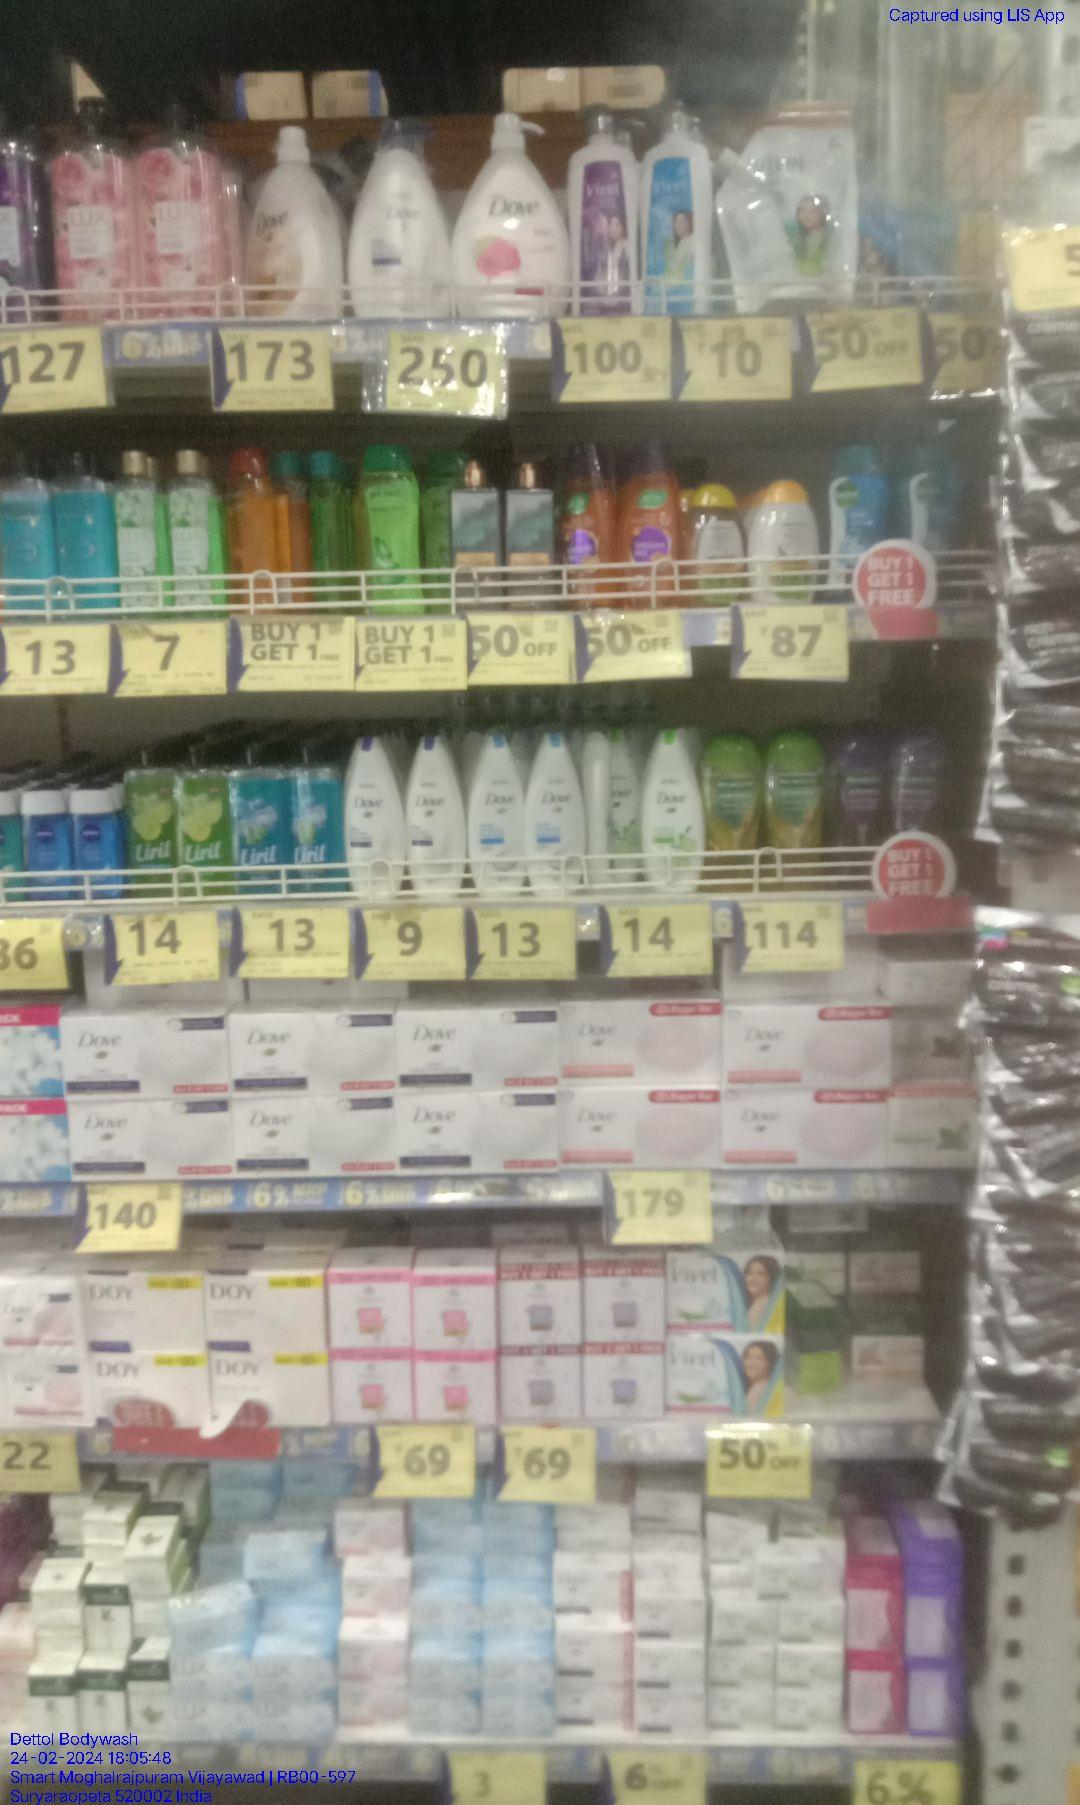Dettol_Bodywash_Cool: (904, 422, 968, 555), (824, 438, 887, 554)
Dove_Deep_Moisture_Body_Wash_250ML: (350, 729, 405, 904), (409, 729, 464, 900)
Dove_Gentle_Exfoliating_Body_Wash_250ML: (467, 729, 527, 895), (531, 733, 588, 894)
Dove_Refreshing_Body_Wash_250ML: (638, 721, 708, 892)
Joy_Shower_Gel_Mandarin_and_Lemongrass_250ML: (621, 431, 683, 613), (564, 444, 613, 609)
Liril_Cooling_Mint_Body_Wash_250ML: (292, 742, 345, 904), (235, 742, 288, 900)
Liril_Lime_and_Tea_Tree_Oil_Body_Wash_250ML: (125, 753, 177, 900), (185, 750, 233, 899)
Lux_Body_Wash_Skin_Detox_Freesia_Scent_and_Alove_Vera_245ML: (166, 444, 225, 609), (118, 451, 159, 620)
Palmolive_Aroma_Morning_Tonic_Shower_Gel_250ML: (765, 734, 828, 897), (714, 729, 762, 892)
Palmolive_Aroma_Relax_250ML: (833, 738, 891, 847), (896, 728, 946, 838)
Pears_Pure_Glycerin_and_Mint_Extracts_Body_Wash_250ML: (0, 451, 63, 616), (68, 446, 113, 617)
